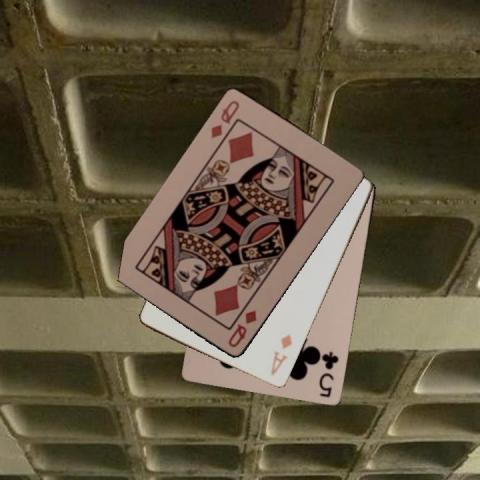5c: (316, 349, 340, 399)
Ad: (268, 331, 294, 378)
Qd: (208, 97, 242, 141), (225, 308, 258, 349)
